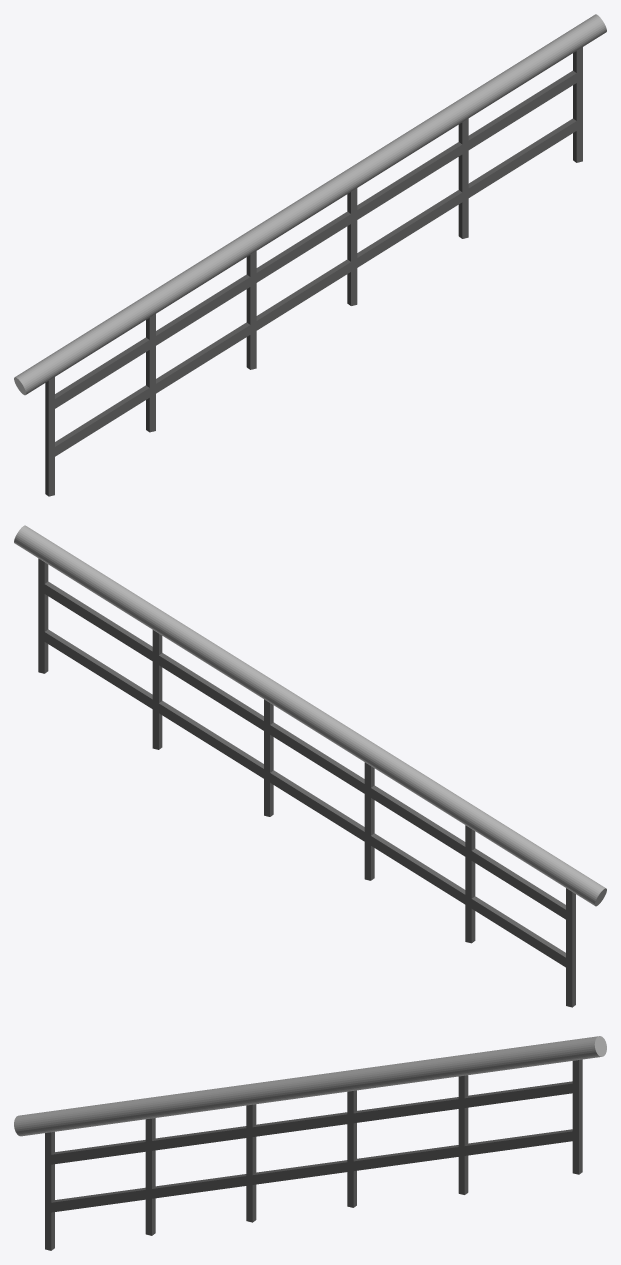
The model's file is BarandaUnity.fbx.
The picture shows the model from 3 angles, top to bottom: view 1: azimuth 30°, elevation 25°; view 2: azimuth 150°, elevation 25°; view 3: azimuth 330°, elevation 25°; orthographic projection.
Visible parts, largest first — view 1: Baranda.006; view 2: Baranda.006; view 3: Baranda.006.
Part boxes in pixels (<box>): Baranda.006: <box>14,14,606,496</box>; Baranda.006: <box>14,525,606,1007</box>; Baranda.006: <box>14,1036,606,1250</box>.
Size of the model in its own units: 932 by 524 by 28.89.
Materials: 1 (1 with a texture image).
